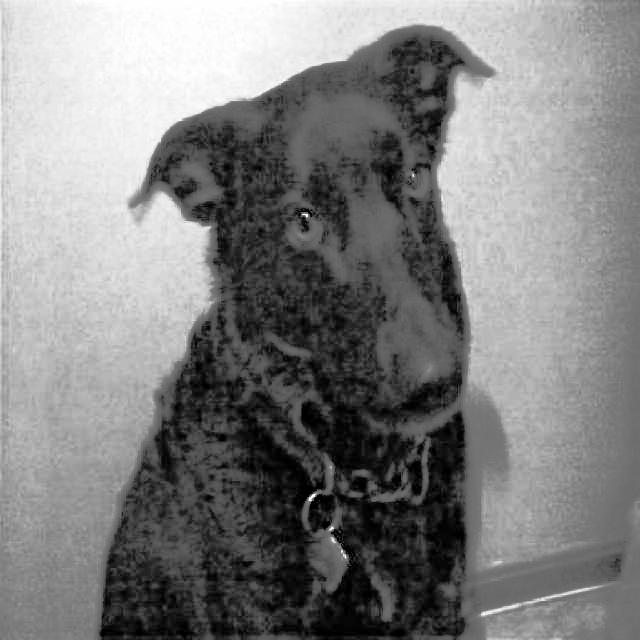Dog: (88, 18, 507, 640)
